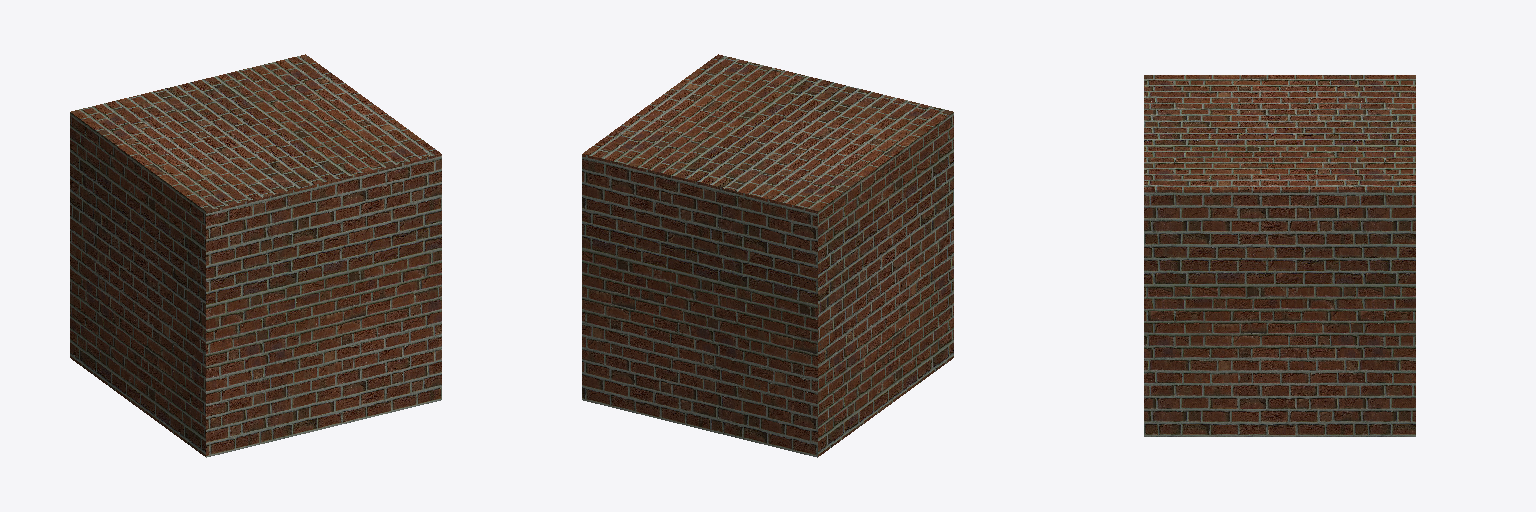
3 renders of one model, left to right at view 1: azimuth 30°, elevation 25°; view 2: azimuth 150°, elevation 25°; view 3: azimuth 270°, elevation 25°, orthographic.
Parts seen in each view (by area): view 1: Cube; view 2: Cube; view 3: Cube.
Part boxes in pixels (bbox=[...]): Cube: bbox=[70, 54, 441, 457]; Cube: bbox=[582, 54, 953, 457]; Cube: bbox=[1144, 75, 1415, 436].
Size of the model in its own units: 2 by 2 by 2.
Materials: 1 (1 with a texture image).